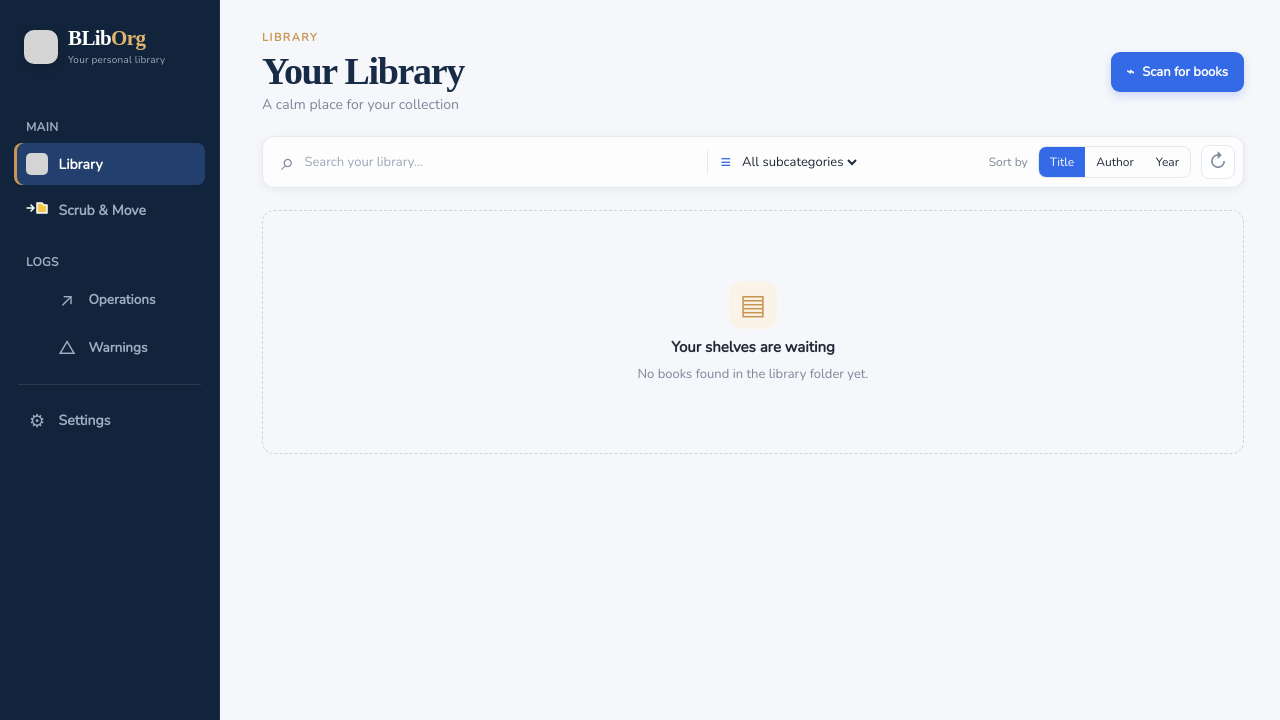
App › switches to the Category Warnings view when its sidebar item is clicked
This screenshot has width=1280, height=720.
Expected: the button "Scrub & Move" is shown, [14,189,205,230]
Click the button "△ Warnings". click: (110,348)
box: [14,326,205,370]
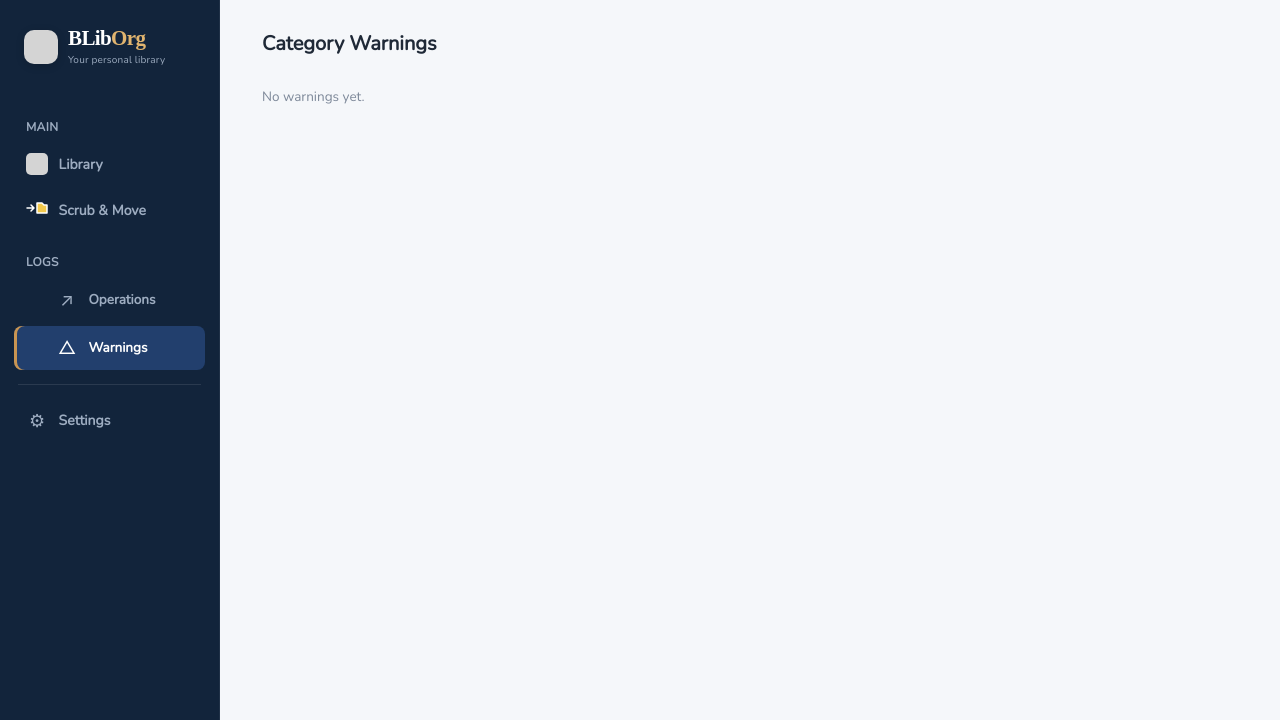
Result: the heading "Category Warnings" is shown at [262,30,437,57]
